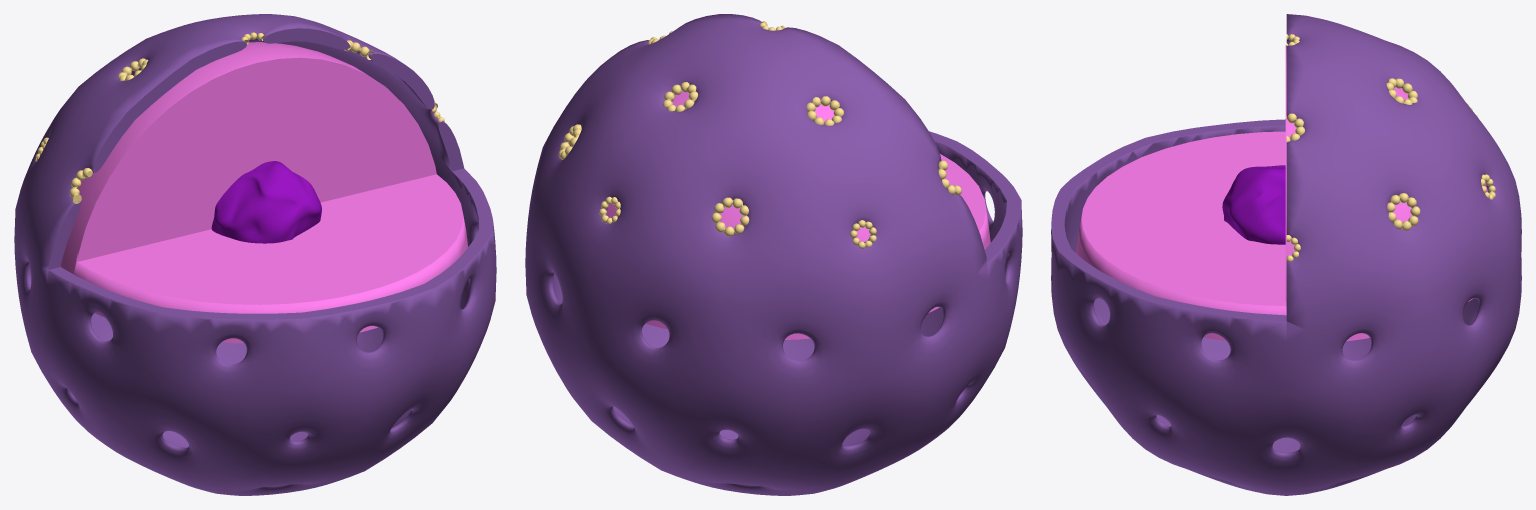
The model's file is nucleus.gltf.
The picture shows the model from 3 angles, left to right: view 1: azimuth 30°, elevation 25°; view 2: azimuth 150°, elevation 25°; view 3: azimuth 270°, elevation 25°; orthographic projection. The views are drawn at different scales.
Visible parts, largest first — view 1: Icosphere, Roundcube, Roundcube.001, Icosphere.002; view 2: Icosphere, Icosphere.002, Roundcube; view 3: Icosphere, Roundcube, Roundcube.001, Icosphere.002.
Boxes of the visible parts, left/top/right/bottom form: Icosphere: left=14, top=14, right=496, bottom=495; Roundcube: left=61, top=42, right=467, bottom=343; Roundcube.001: left=211, top=161, right=321, bottom=243; Icosphere.002: left=35, top=32, right=444, bottom=203; Icosphere: left=525, top=14, right=1022, bottom=495; Icosphere.002: left=558, top=21, right=961, bottom=248; Roundcube: left=607, top=91, right=990, bottom=339; Icosphere: left=1051, top=14, right=1521, bottom=495; Roundcube: left=1076, top=45, right=1487, bottom=341; Roundcube.001: left=1222, top=165, right=1285, bottom=244; Icosphere.002: left=1286, top=34, right=1495, bottom=261.
Size of the model in its own units: 2.19 by 2.18 by 2.15.
